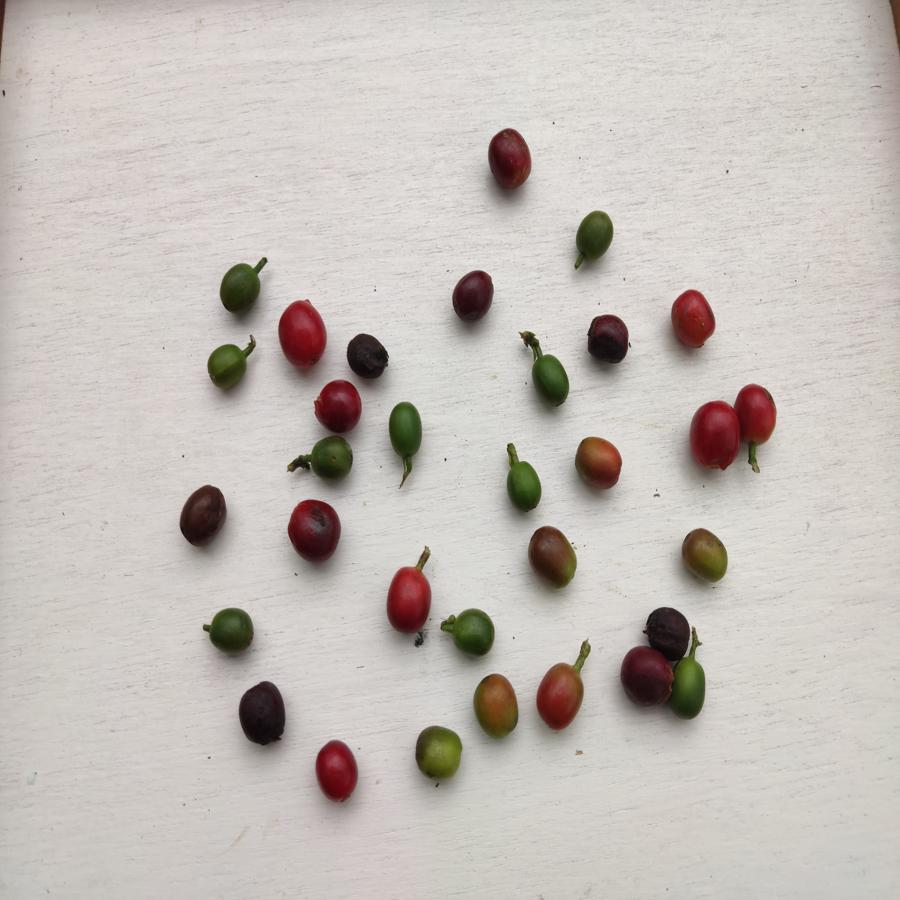Inmaduro: (570, 209, 620, 265), (213, 263, 265, 314), (207, 608, 258, 657), (450, 608, 497, 660), (528, 353, 573, 407), (206, 343, 253, 392), (306, 434, 357, 479), (504, 461, 546, 514), (388, 402, 427, 458), (674, 659, 706, 719)
Maduro: (686, 397, 740, 474), (277, 300, 328, 369), (386, 568, 434, 638), (670, 287, 715, 355), (735, 380, 781, 446), (315, 740, 359, 803), (314, 379, 364, 428)
Pinton: (535, 664, 586, 732), (527, 523, 579, 589), (474, 673, 520, 740), (573, 435, 624, 494), (682, 526, 730, 588), (413, 725, 465, 781)
Sobremaduro: (285, 498, 346, 564), (236, 681, 290, 748), (177, 483, 229, 550), (621, 644, 673, 710), (488, 127, 535, 193), (447, 270, 497, 321), (584, 312, 631, 366), (642, 605, 688, 659), (346, 330, 389, 381)
